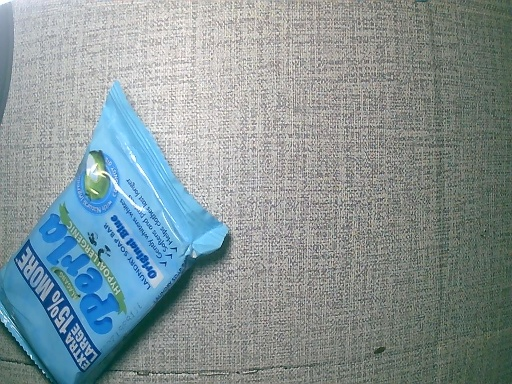plastic: (1, 79, 236, 384)
